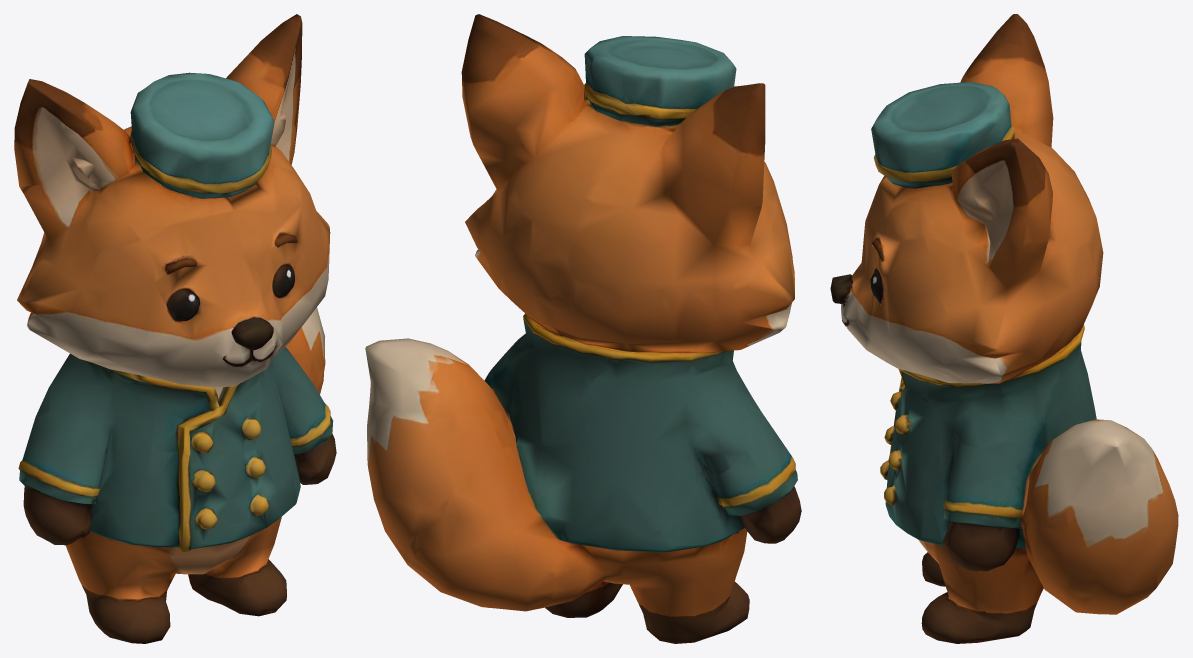
The model's file is fox-bellhop-5k.glb.
3 views of the same model, side by side, from view 1: azimuth 30°, elevation 25°; view 2: azimuth 150°, elevation 25°; view 3: azimuth 270°, elevation 25° (orthographic). The views are drawn at different scales.
Visible parts, largest first — view 1: tripo_node_169823b9-7137-484a-8275-9328be8d41a7; view 2: tripo_node_169823b9-7137-484a-8275-9328be8d41a7; view 3: tripo_node_169823b9-7137-484a-8275-9328be8d41a7.
Part boxes in pixels (<box>): tripo_node_169823b9-7137-484a-8275-9328be8d41a7: <box>14,14,336,643</box>; tripo_node_169823b9-7137-484a-8275-9328be8d41a7: <box>365,14,801,643</box>; tripo_node_169823b9-7137-484a-8275-9328be8d41a7: <box>830,14,1178,643</box>.
Size of the model in its own units: 0.662 by 0.9996 by 0.5977.
1 material, 1 textured.
